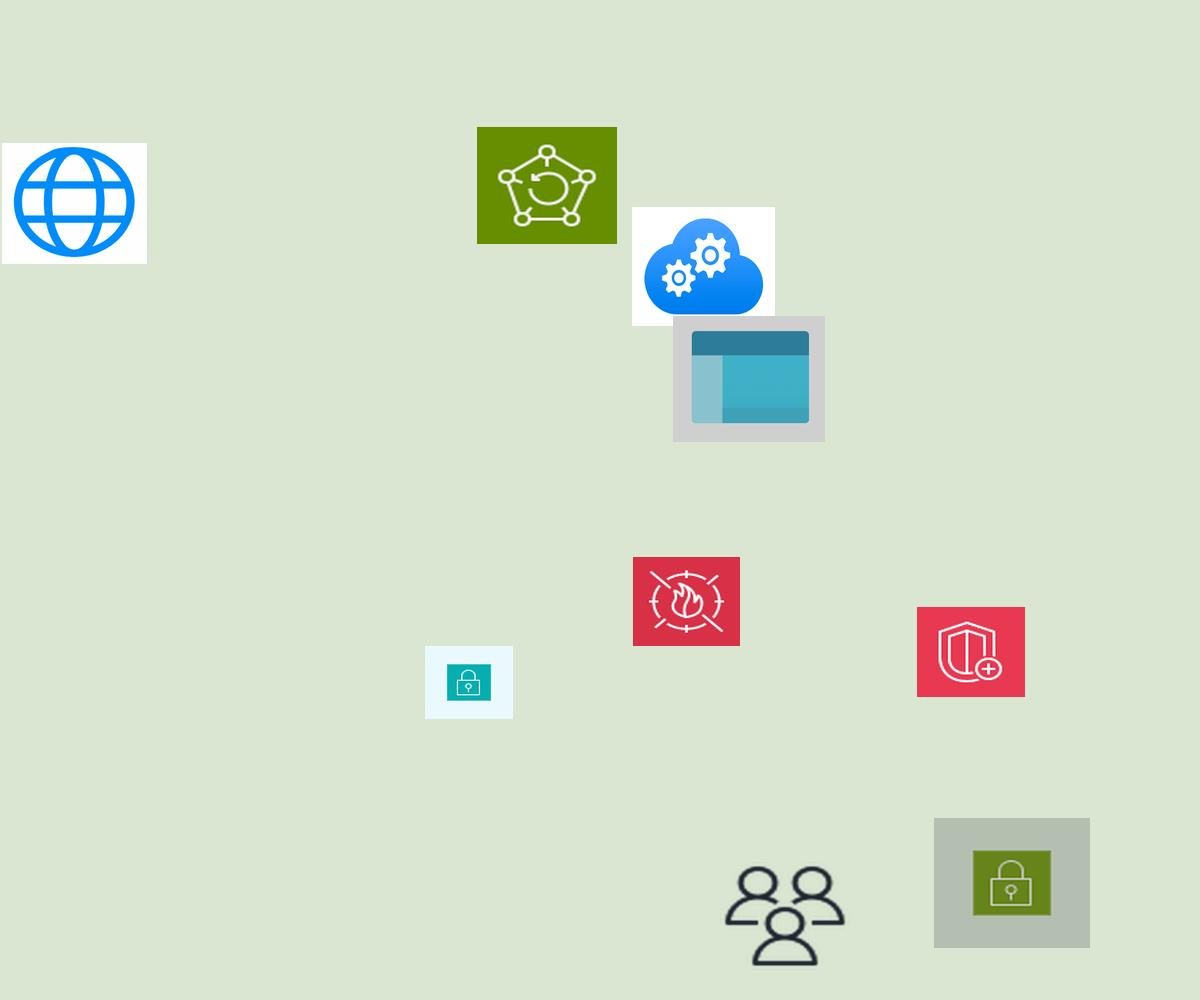AWS-Backup: (477, 127, 617, 244)
AWS-Private-subnet: (425, 646, 513, 719)
AWS-Public-subnet: (934, 818, 1090, 948)
AWS-Res_Users: (720, 862, 850, 970)
AWS-Shield: (917, 607, 1025, 697)
AWS-WAF: (633, 557, 740, 646)
Azure_cloud_services: (632, 207, 775, 326)
Azure_http: (2, 143, 147, 264)
Azure_management-portal: (673, 316, 825, 442)
